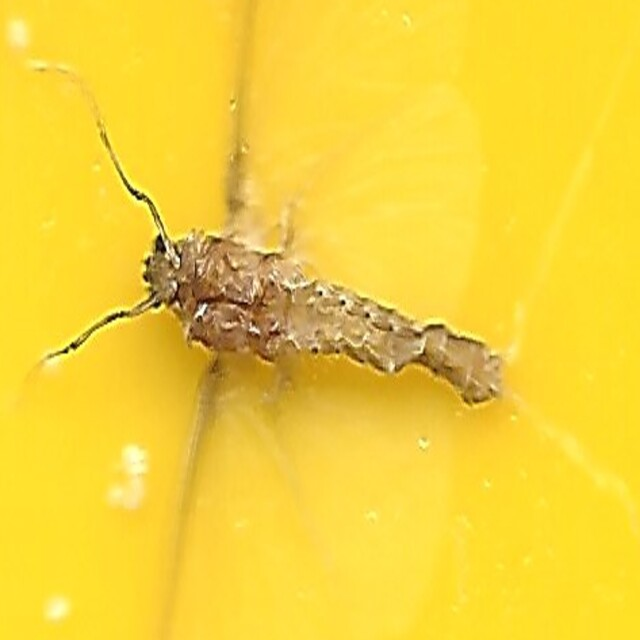Ephemeroptera: (135, 222, 505, 418)
